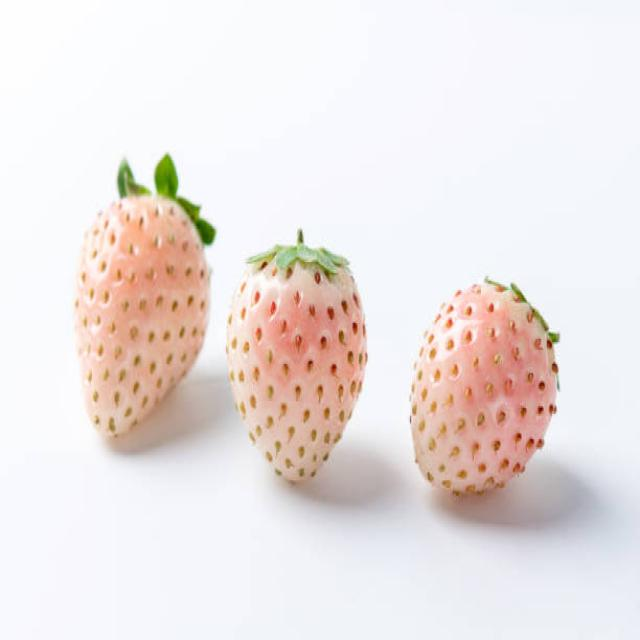Healthy Fruit: (73, 194, 210, 438), (409, 279, 559, 496), (226, 254, 367, 483)
